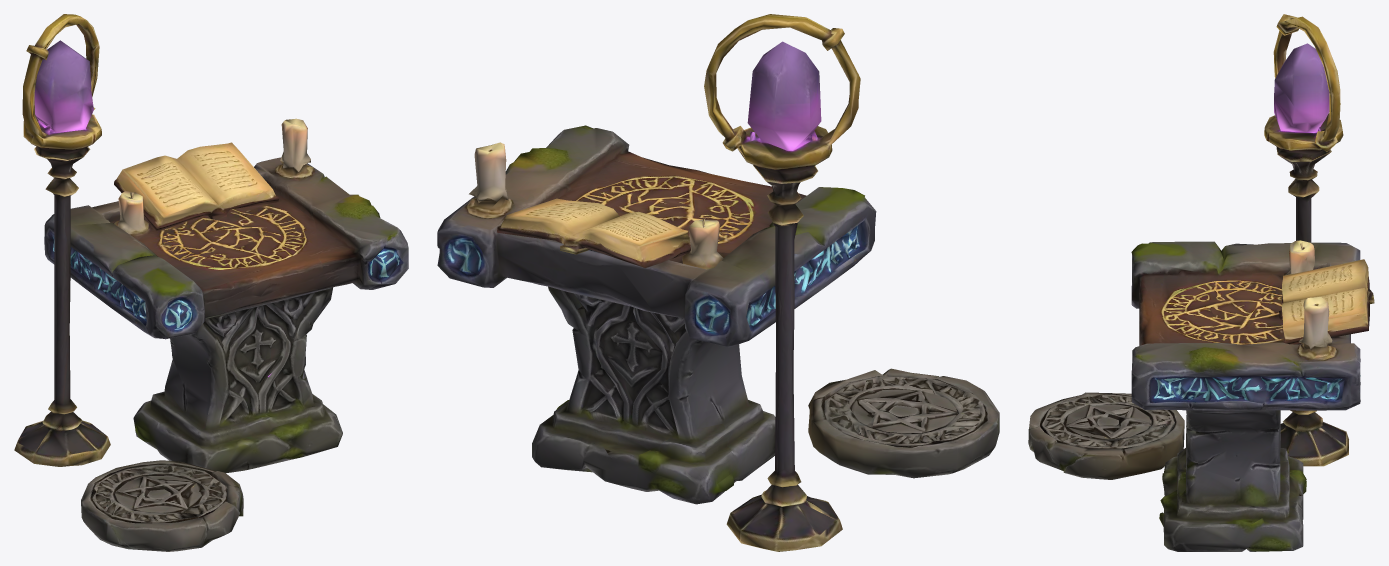
The model's file is town_station_enchanting_altar.glb.
3 views of the same model, side by side, from view 1: azimuth 30°, elevation 25°; view 2: azimuth 150°, elevation 25°; view 3: azimuth 270°, elevation 25° (orthographic). The views are drawn at different scales.
Visible parts, largest first — view 1: tripo_node_0f43508b-1e6b-48a4-8843-2ad38a1498f8; view 2: tripo_node_0f43508b-1e6b-48a4-8843-2ad38a1498f8; view 3: tripo_node_0f43508b-1e6b-48a4-8843-2ad38a1498f8.
Boxes of the visible parts, x1,y1,x2,y2 form: tripo_node_0f43508b-1e6b-48a4-8843-2ad38a1498f8: [14, 14, 408, 551]; tripo_node_0f43508b-1e6b-48a4-8843-2ad38a1498f8: [437, 14, 999, 551]; tripo_node_0f43508b-1e6b-48a4-8843-2ad38a1498f8: [1028, 14, 1374, 551].
Bounding box in the file's own units: 2.13 × 2.59 × 1.91.
Materials: 1 (1 with a texture image).
